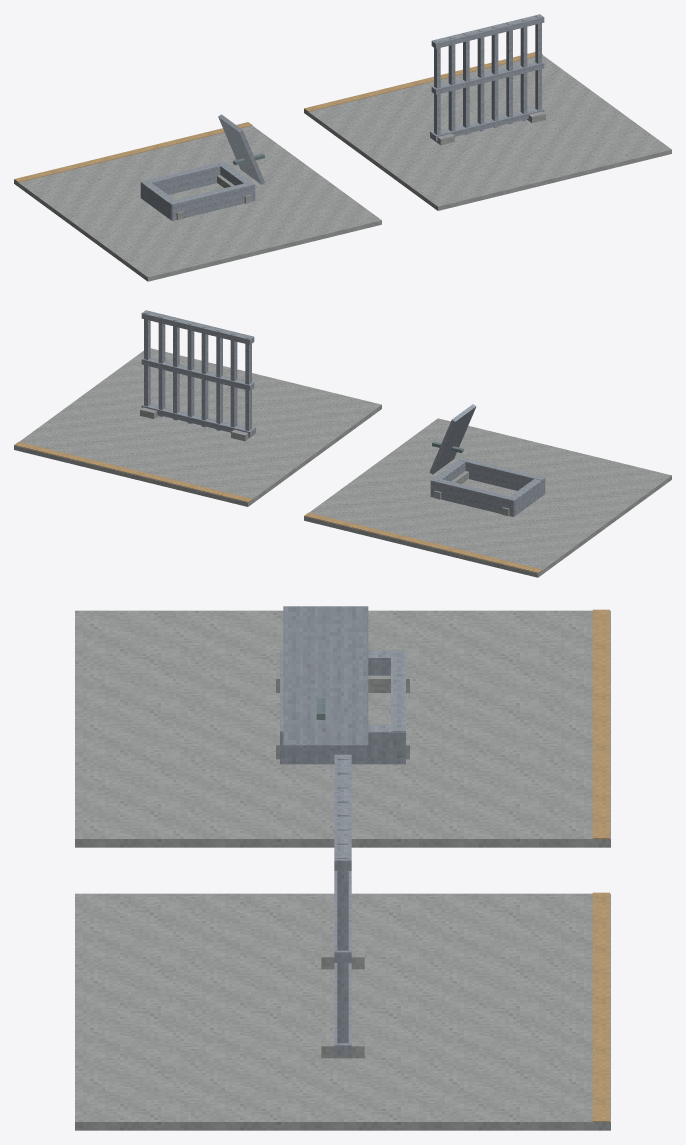
File: level_blockout_kit_wld_09_p04.glb
3 renders of one model, top to bottom at view 1: azimuth 30°, elevation 25°; view 2: azimuth 150°, elevation 25°; view 3: azimuth 270°, elevation 25°, orthographic. The views are drawn at different scales.
Parts seen in each view (by area): view 1: level_blockout_kit_wld_09_p04; view 2: level_blockout_kit_wld_09_p04; view 3: level_blockout_kit_wld_09_p04.
Boxes of the visible parts, bbox=[...] form: level_blockout_kit_wld_09_p04: bbox=[14, 14, 671, 281]; level_blockout_kit_wld_09_p04: bbox=[14, 310, 671, 577]; level_blockout_kit_wld_09_p04: bbox=[75, 606, 610, 1130].
Size of the model in its own units: 12.65 by 2.42 by 5.6.
4 materials, 4 textured.
